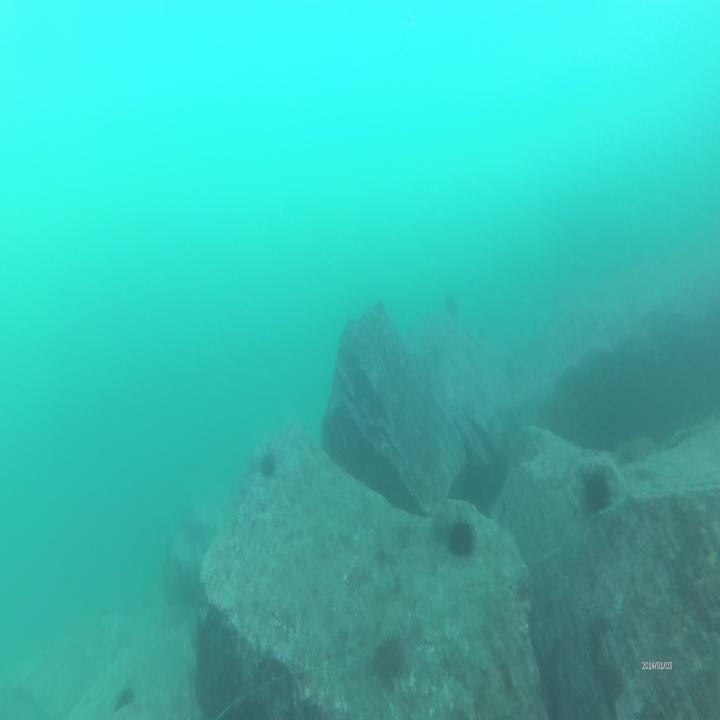echinus: (375, 629, 409, 690), (582, 463, 614, 516), (445, 514, 478, 564), (257, 448, 278, 482)
